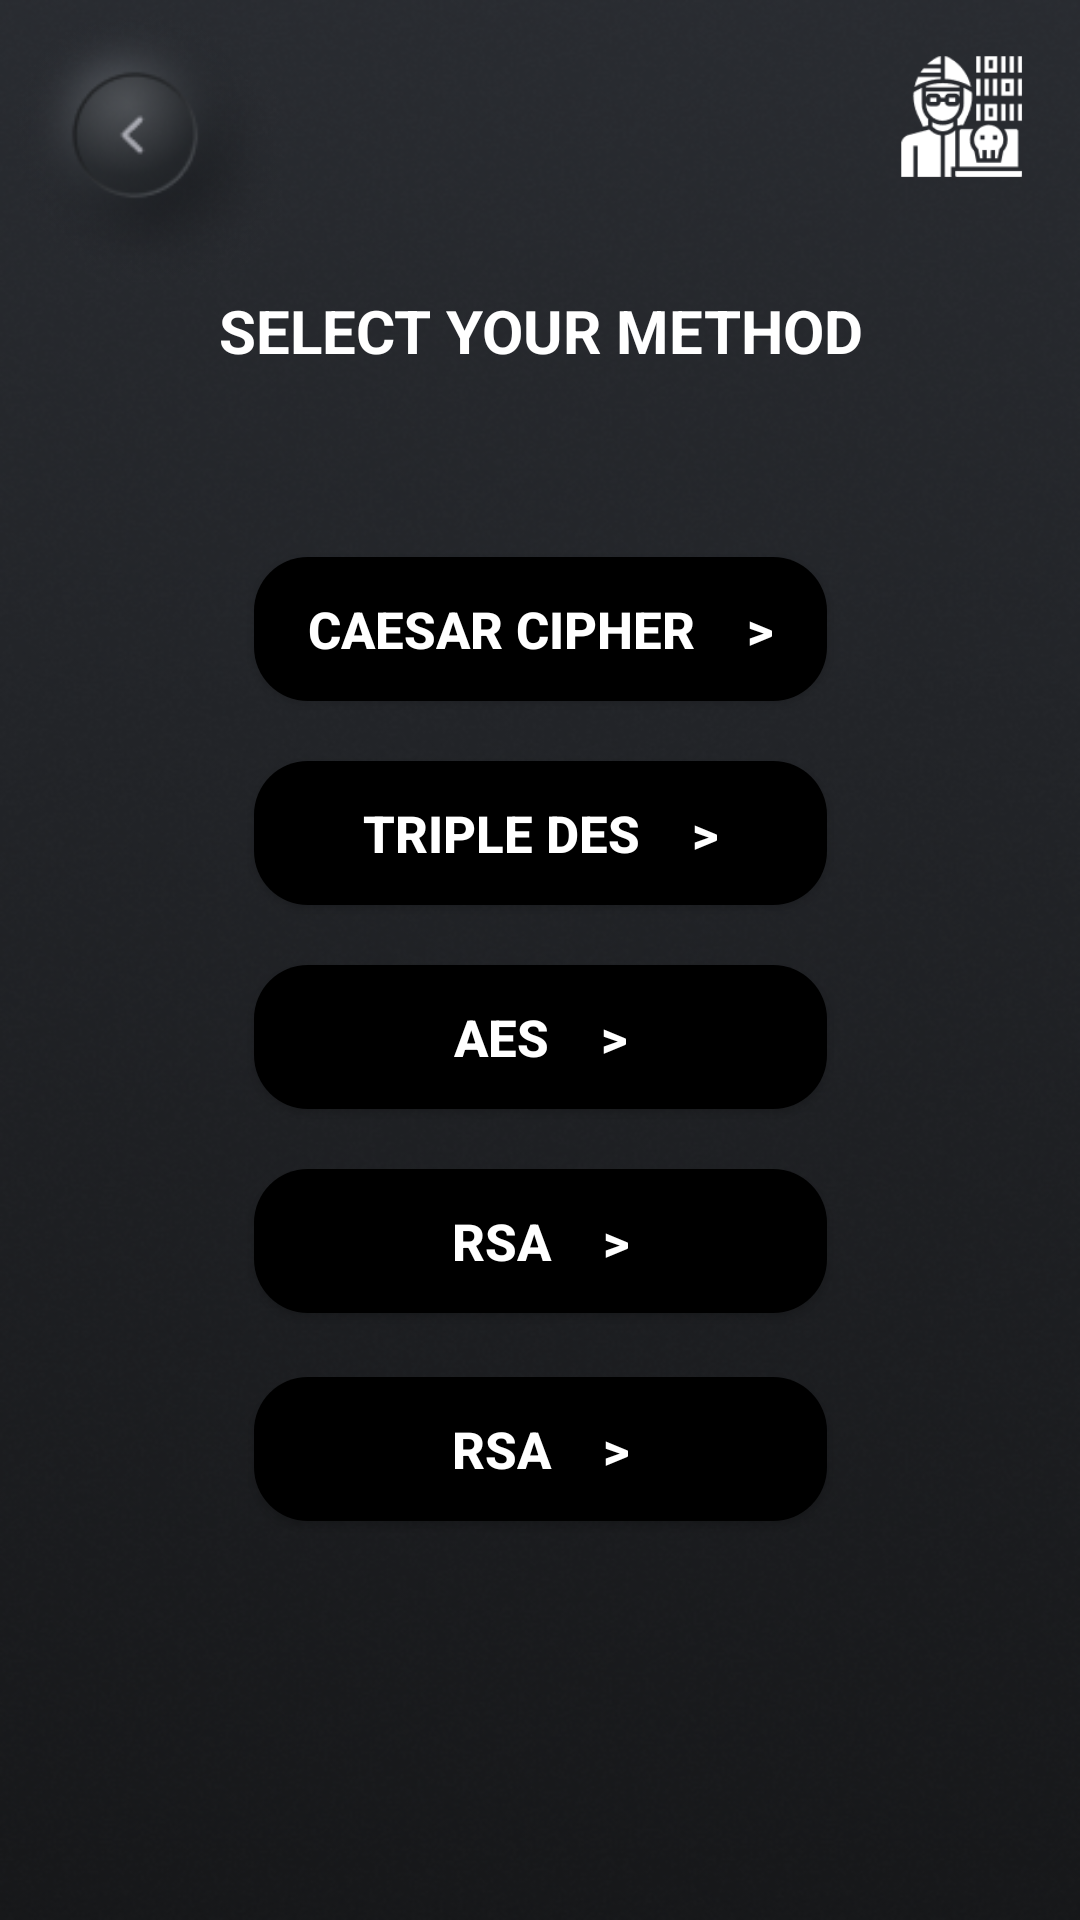

Icons on this 1080×1920 Android screen, each with its box as (left=x1, top=y1, right=x2, bottom=y2):
reversebtn: (left=85, top=70, right=190, bottom=192)
